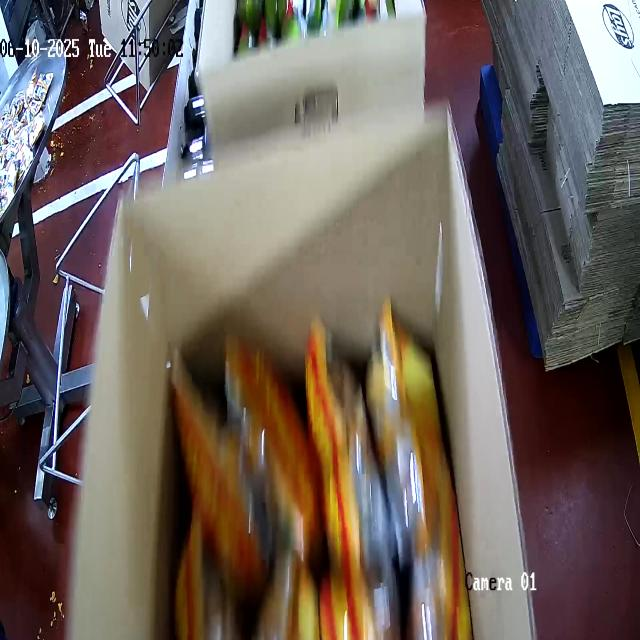FRENCH_CHEESE: (154, 319, 466, 640)
